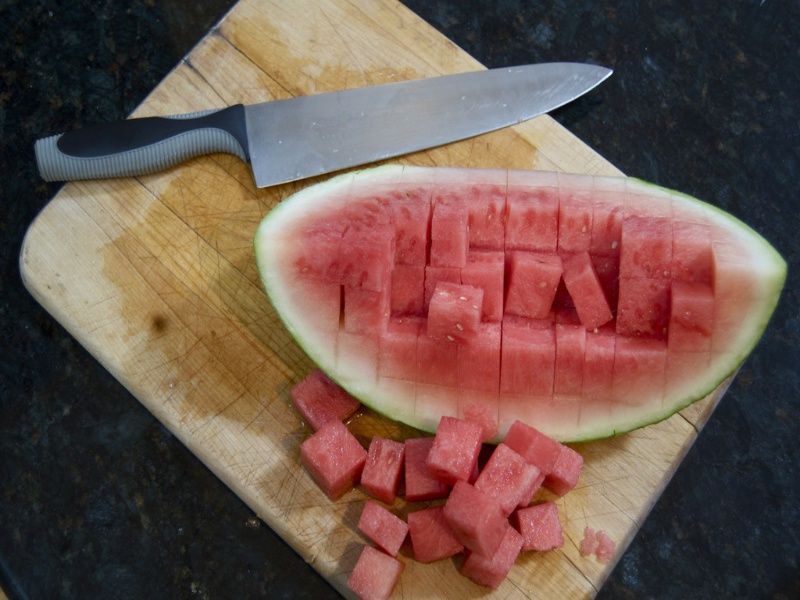knife: (31, 59, 615, 196)
